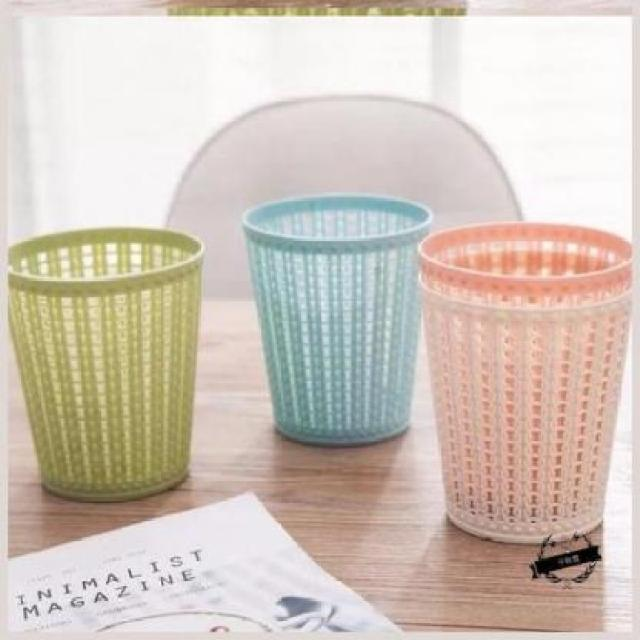dustbin: (412, 217, 632, 549), (4, 222, 206, 506), (237, 189, 436, 449)
